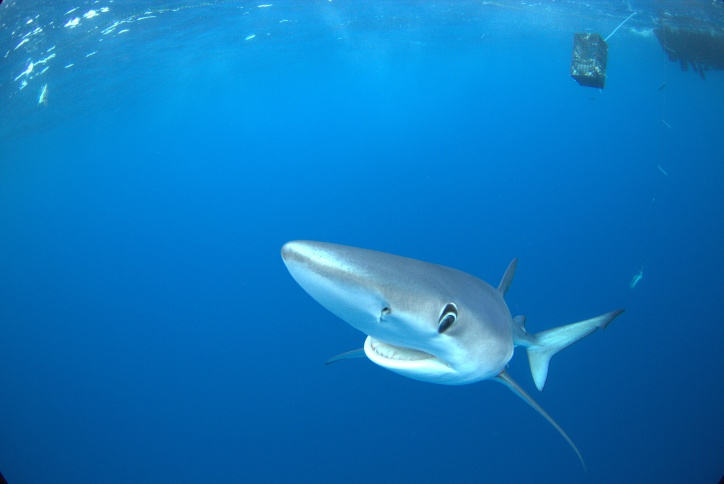Azul: (227, 208, 638, 473)
